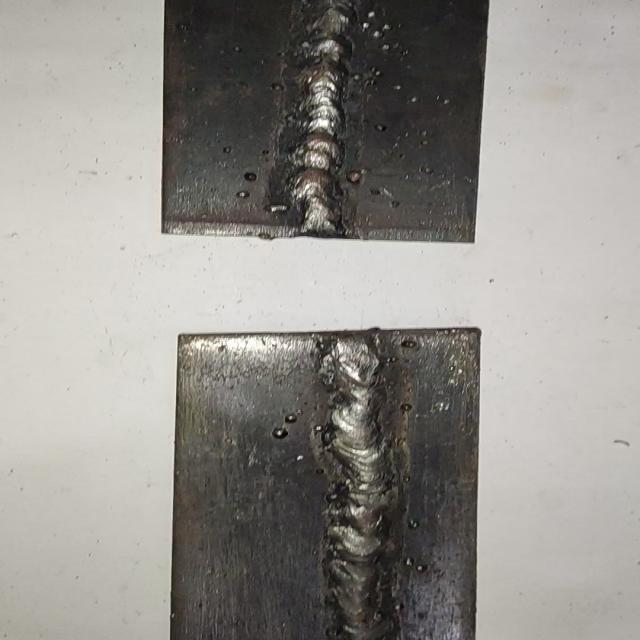Defect: (333, 0, 399, 53), (266, 406, 347, 446)
Welding Line: (324, 338, 402, 640), (276, 0, 363, 232)
Workpiece: (166, 322, 489, 640), (153, 0, 503, 246)
